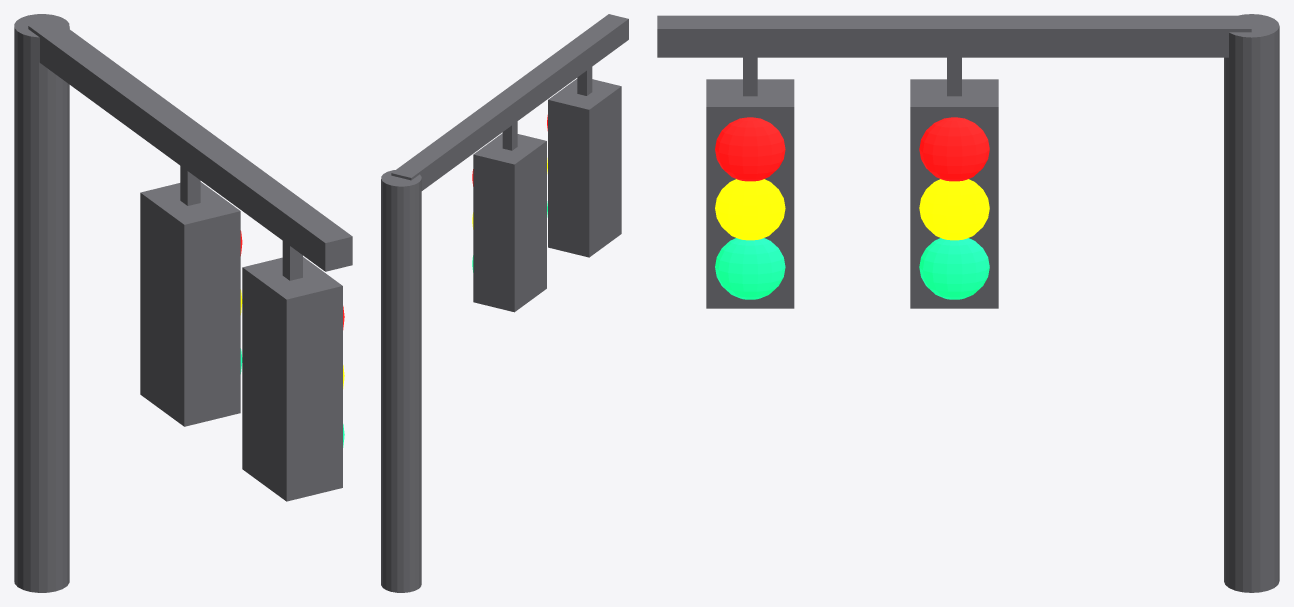
The model's file is traffic_light_d.fbx.
The picture shows the model from 3 angles, left to right: view 1: azimuth 30°, elevation 25°; view 2: azimuth 150°, elevation 25°; view 3: azimuth 270°, elevation 25°; orthographic projection. The views are drawn at different scales.
Parts seen in each view (by area): view 1: Semaforo_cuerpo; view 2: Semaforo_cuerpo; view 3: Semaforo_cuerpo, lamp_red.001, lamp_red, lamp_green, lamp_green.001, lamp_yellow.001, lamp_yellow.
Boxes of the visible parts, x1=… form: Semaforo_cuerpo: x1=14, y1=14, x2=352, y2=592; Semaforo_cuerpo: x1=381, y1=14, x2=628, y2=592; Semaforo_cuerpo: x1=657, y1=14, x2=1279, y2=592; lamp_red.001: x1=715, y1=117, x2=785, y2=181; lamp_red: x1=919, y1=117, x2=989, y2=181; lamp_green: x1=919, y1=238, x2=989, y2=299; lamp_green.001: x1=715, y1=238, x2=785, y2=299; lamp_yellow.001: x1=715, y1=179, x2=785, y2=240; lamp_yellow: x1=919, y1=179, x2=989, y2=240.
Size of the model in its own units: 89.52 by 664 by 670.
